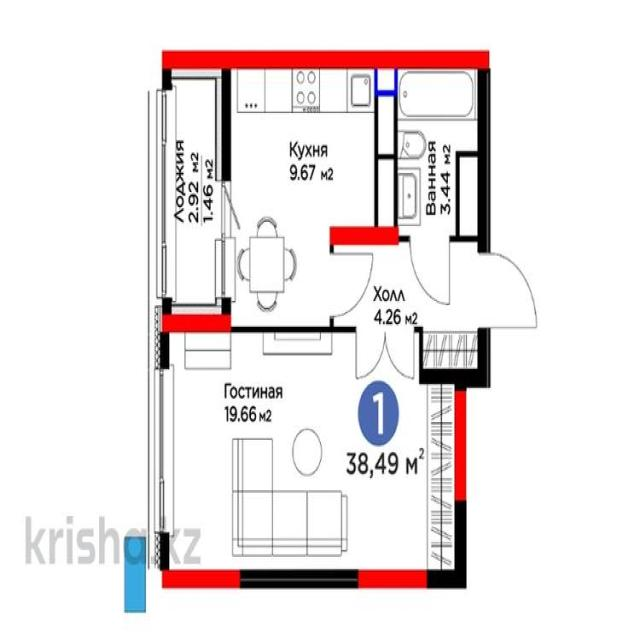balcony: (165, 56, 225, 327)
bathroom: (398, 67, 483, 242)
hallway: (332, 241, 489, 330)
kitchen: (225, 58, 378, 328)
living_room: (166, 330, 422, 582)
